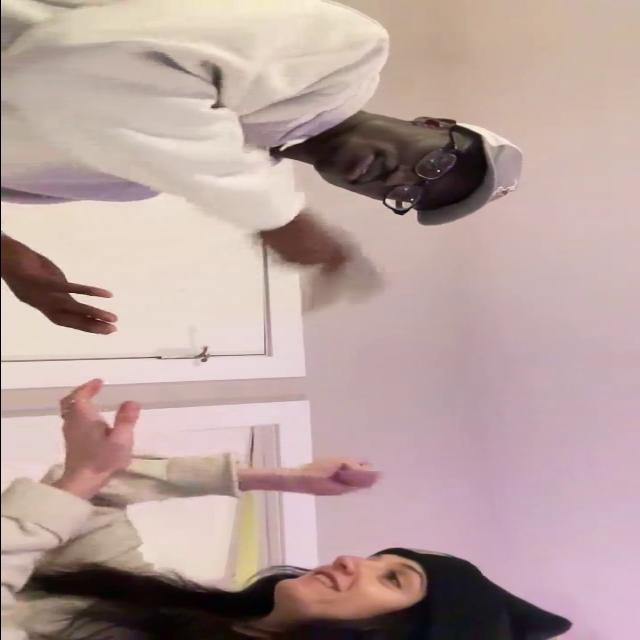Rock: (281, 458, 379, 496)
Scissors: (256, 218, 380, 310)
